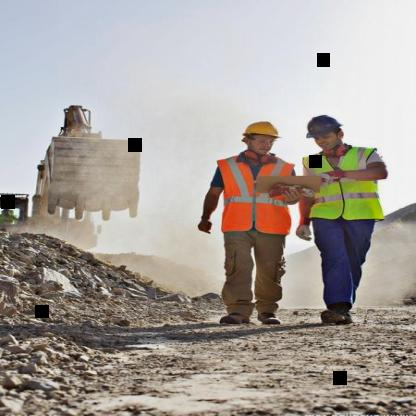helmet: (236, 114, 286, 160), (305, 110, 349, 154)
